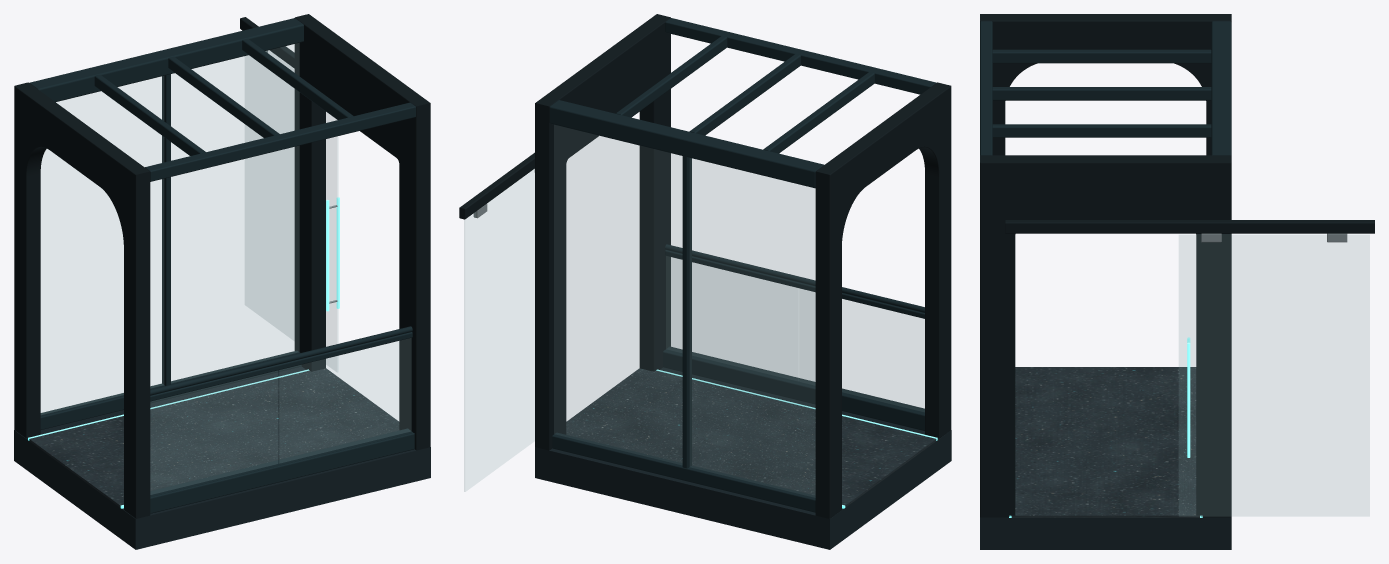
File: Office_Glass_Corridor.glb
The picture shows the model from 3 angles, left to right: view 1: azimuth 30°, elevation 25°; view 2: azimuth 150°, elevation 25°; view 3: azimuth 270°, elevation 25°; orthographic projection. The views are drawn at different scales.
Parts seen in each view (by area): view 1: N_GlassPane_E, N_GlassPane_W, E_Portal_Frame, W_ArchPortal_Frame, Terrazzo_Runner, SubSlab_Slate, E_Door_GlassLeaf, S_GlassPane_E, S_GlassPane_W, N_HeaderBeam, S_FloorCurb, S_TopFascia (+8 smaller); view 2: N_GlassPane_E, N_GlassPane_W, E_Portal_Frame, W_ArchPortal_Frame, Terrazzo_Runner, E_Door_GlassLeaf, SubSlab_Slate, S_GlassPane_E, S_GlassPane_W, N_HeaderBeam, S_FloorCurb, N_BottomRail (+8 smaller); view 3: E_Door_GlassLeaf, E_Portal_Frame, Terrazzo_Runner, W_ArchPortal_Frame, SubSlab_Slate, E_Door_HeaderTrack, Roof_Rib_1, Roof_Rib_2, Roof_Rib_3, N_HeaderBeam, S_TopFascia.
Boxes of the visible parts, left/top/right/bottom form: N_GlassPane_E: left=171, top=43, right=298, bottom=382; N_GlassPane_W: left=41, top=76, right=163, bottom=414; E_Portal_Frame: left=294, top=14, right=430, bottom=450; W_ArchPortal_Frame: left=14, top=82, right=150, bottom=518; Terrazzo_Runner: left=29, top=368, right=399, bottom=507; SubSlab_Slate: left=14, top=366, right=430, bottom=549; E_Door_GlassLeaf: left=245, top=51, right=337, bottom=371; S_GlassPane_E: left=279, top=338, right=410, bottom=462; S_GlassPane_W: left=151, top=371, right=277, bottom=494; N_HeaderBeam: left=29, top=18, right=303, bottom=101; S_FloorCurb: left=150, top=428, right=414, bottom=513; S_TopFascia: left=145, top=102, right=415, bottom=181; N_GlassPane_E: left=554, top=125, right=681, bottom=464; N_GlassPane_W: left=690, top=158, right=814, bottom=496; E_Portal_Frame: left=535, top=14, right=670, bottom=450; W_ArchPortal_Frame: left=815, top=82, right=951, bottom=518; Terrazzo_Runner: left=566, top=368, right=936, bottom=507; E_Door_GlassLeaf: left=464, top=169, right=534, bottom=491; SubSlab_Slate: left=535, top=367, right=951, bottom=549; S_GlassPane_E: left=666, top=256, right=798, bottom=380; S_GlassPane_W: left=800, top=289, right=924, bottom=411; N_HeaderBeam: left=549, top=100, right=823, bottom=188; S_FloorCurb: left=663, top=346, right=924, bottom=431; N_BottomRail: left=552, top=432, right=815, bottom=512; E_Door_GlassLeaf: left=1179, top=235, right=1369, bottom=515; E_Portal_Frame: left=980, top=155, right=1231, bottom=517; Terrazzo_Runner: left=1011, top=367, right=1199, bottom=517; W_ArchPortal_Frame: left=980, top=14, right=1231, bottom=155; SubSlab_Slate: left=980, top=517, right=1231, bottom=549; E_Door_HeaderTrack: left=1005, top=220, right=1374, bottom=233; Roof_Rib_1: left=992, top=49, right=1211, bottom=63; Roof_Rib_2: left=992, top=87, right=1211, bottom=100; Roof_Rib_3: left=992, top=124, right=1211, bottom=137; N_HeaderBeam: left=1211, top=21, right=1231, bottom=155; S_TopFascia: left=980, top=21, right=992, bottom=155.
Size of the model in its own units: 2.89 by 3.4 by 3.14.
Materials: 8 (1 with a texture image).
